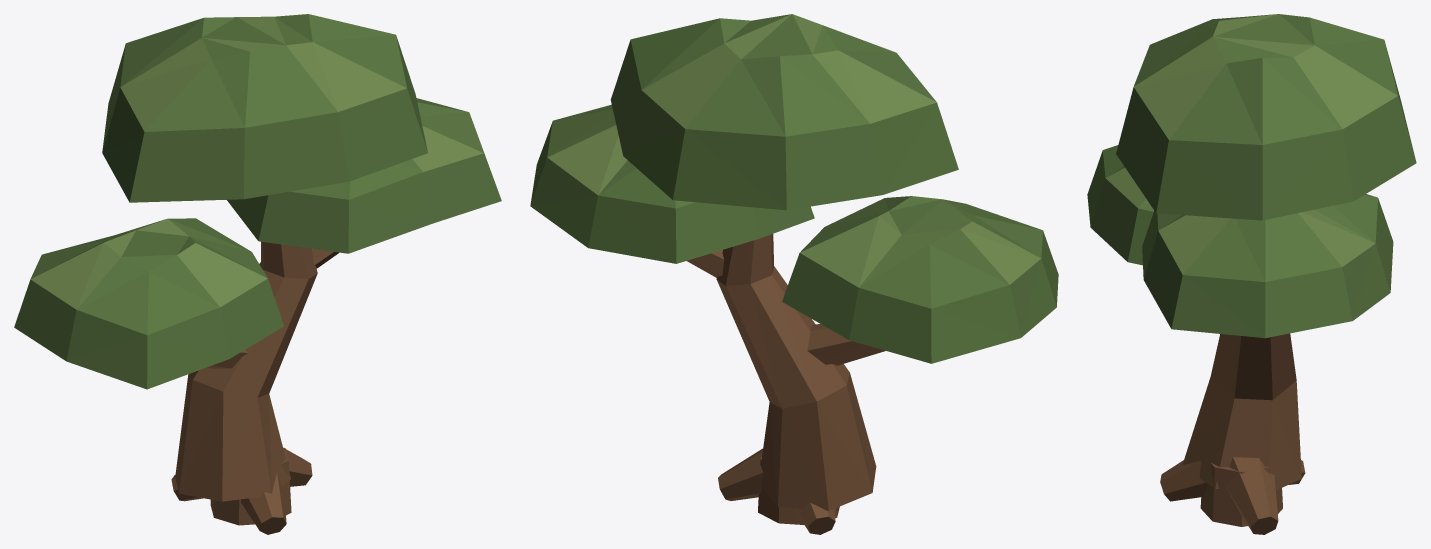
File: bonsai_c.obj
3 views of the same model, side by side, from view 1: azimuth 30°, elevation 25°; view 2: azimuth 150°, elevation 25°; view 3: azimuth 270°, elevation 25° (orthographic). The views are drawn at different scales.
Visible parts, largest first — view 1: bonsai_c; view 2: bonsai_c; view 3: bonsai_c.
Boxes of the visible parts, x1,y1,x2,y2 form: bonsai_c: [14, 14, 501, 534]; bonsai_c: [530, 14, 1058, 534]; bonsai_c: [1087, 14, 1416, 534].
Bounding box in the file's own units: 0.9525 × 0.9069 × 0.5585.
